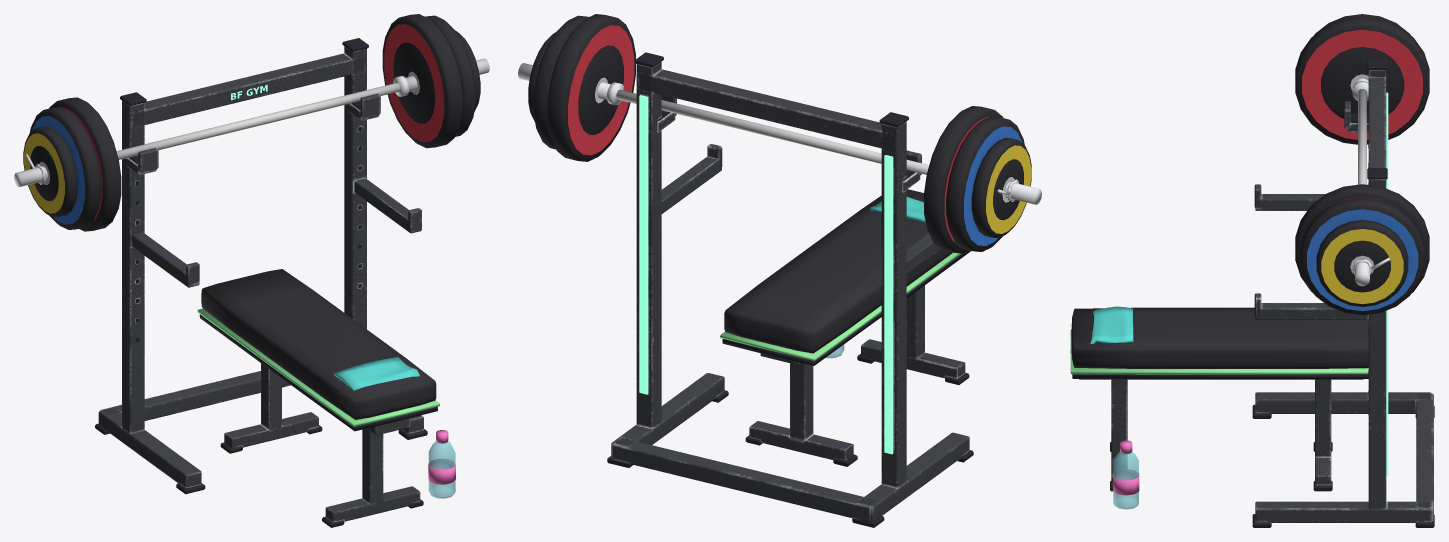
File: bench_press.glb
The picture shows the model from 3 angles, left to right: view 1: azimuth 30°, elevation 25°; view 2: azimuth 150°, elevation 25°; view 3: azimuth 270°, elevation 25°; orthographic projection. The views are drawn at different scales.
Visible parts, largest first — view 1: body; view 2: body; view 3: body.
Boxes of the visible parts, x1,y1,x2,y2 form: body: [14, 14, 489, 527]; body: [518, 14, 1041, 527]; body: [1070, 14, 1434, 527].
Bounding box in the file's own units: 4 × 2.97 × 2.68.
Materials: 4 (1 with a texture image).
